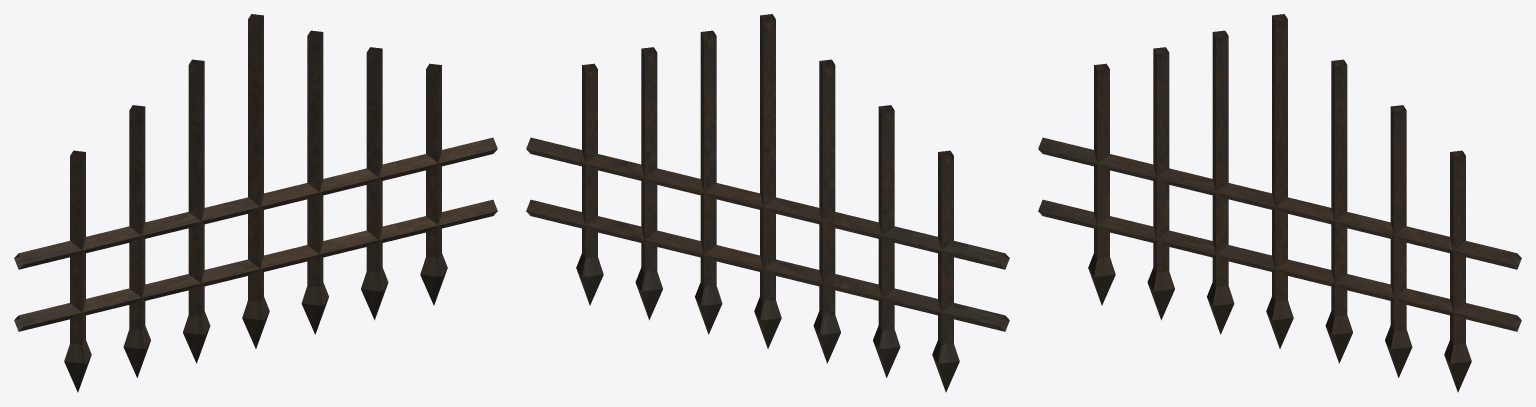
Rendered from arch_fence.glb.
The picture shows the model from 3 angles, left to right: view 1: azimuth 30°, elevation 25°; view 2: azimuth 150°, elevation 25°; view 3: azimuth 330°, elevation 25°; orthographic projection.
Parts seen in each view (by area): view 1: arch_fence; view 2: arch_fence; view 3: arch_fence.
Boxes of the visible parts, box(x1,y1,x2,y2) form: arch_fence: box(14, 14, 497, 392); arch_fence: box(526, 14, 1009, 392); arch_fence: box(1038, 14, 1521, 392).
Size of the model in its own units: 3.2 by 2.14 by 0.1866.
Materials: 1 (1 with a texture image).
